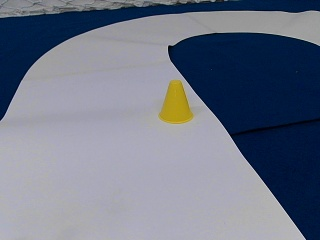cone: (159, 81, 192, 122)
